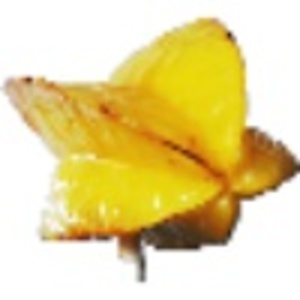carambola: (2, 15, 300, 281)
